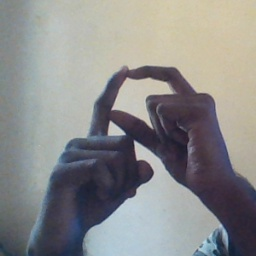D: (82, 62, 204, 192)
